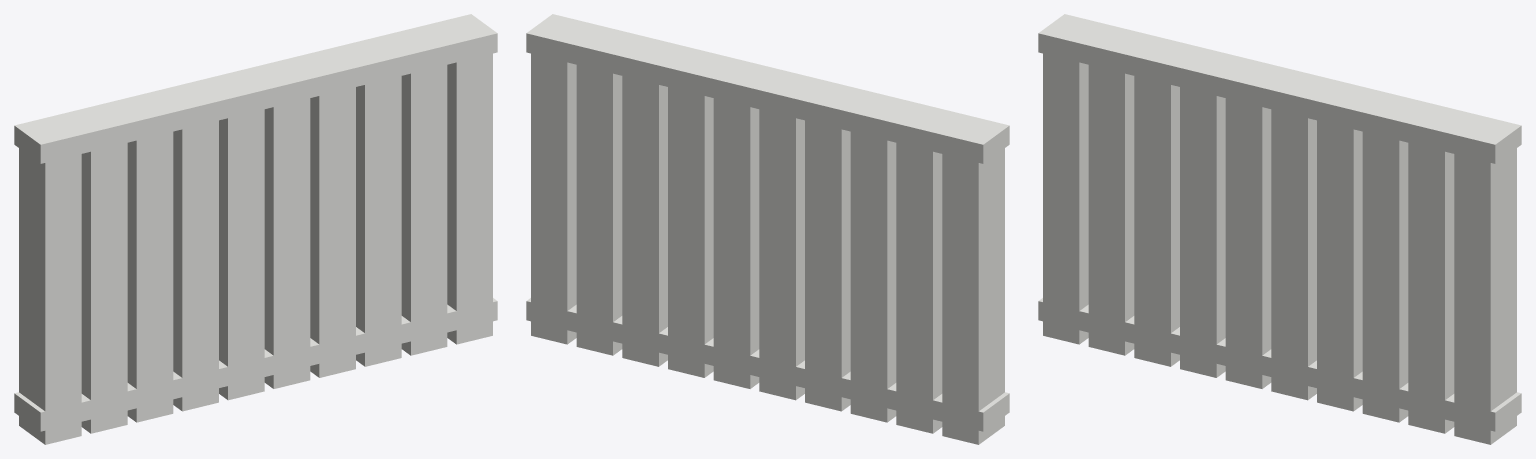
Rendered from GH_Radiator_01.glb.
3 renders of one model, left to right at view 1: azimuth 30°, elevation 25°; view 2: azimuth 150°, elevation 25°; view 3: azimuth 330°, elevation 25°, orthographic.
Parts seen in each view (by area): view 1: GH_Radiator_01; view 2: GH_Radiator_01; view 3: GH_Radiator_01.
Boxes of the visible parts, x1=… form: GH_Radiator_01: x1=14, y1=14, x2=497, y2=444; GH_Radiator_01: x1=526, y1=14, x2=1009, y2=444; GH_Radiator_01: x1=1038, y1=14, x2=1521, y2=444.
Size of the model in its own units: 1 by 0.63 by 0.1.
1 material, 1 textured.
